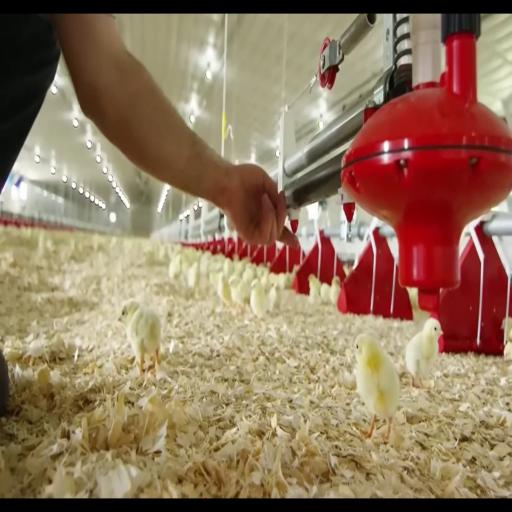chick: (356, 335, 399, 441), (119, 300, 161, 375), (406, 319, 442, 387), (250, 280, 267, 318), (229, 276, 246, 307), (218, 274, 231, 305), (502, 318, 511, 360), (187, 262, 199, 289), (169, 254, 181, 280), (309, 275, 320, 303), (269, 285, 280, 311), (330, 276, 340, 304), (242, 266, 255, 284), (502, 318, 511, 343), (223, 259, 233, 279), (320, 284, 330, 303), (503, 341, 512, 361), (260, 273, 269, 289), (278, 273, 287, 289)
